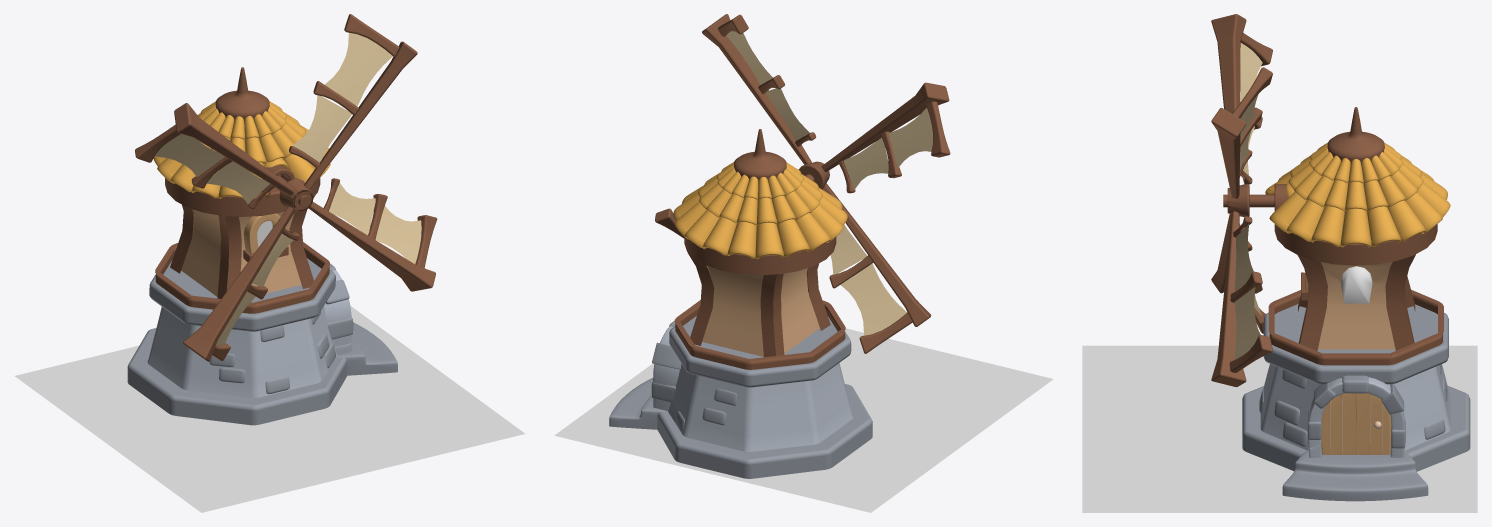
File: Windmill3.fbx
The picture shows the model from 3 angles, left to right: view 1: azimuth 30°, elevation 25°; view 2: azimuth 150°, elevation 25°; view 3: azimuth 270°, elevation 25°; orthographic projection. The views are drawn at different scales.
Parts seen in each view (by area): view 1: Plane, Plane.003, Circle, Circle.013, Circle.006, Plane.001, Plane.007, Circle.066, Circle.001, Plane.006, Circle.002, Circle.007 (+1 smaller); view 2: Plane, Plane.003, Circle, Circle.013, Plane.001, Circle.006, Plane.007, Circle.066, Circle.001, Plane.006, Circle.002, Circle.025 (+7 smaller); view 3: Plane, Plane.003, Plane.006, Circle.006, Circle, Circle.013, Plane.001, Circle.009, Plane.007, Circle.066, Circle.001, Circle.002 (+17 smaller).
Part boxes in pixels (bbox=[...]): Plane: bbox=[15, 306, 525, 512]; Plane.003: bbox=[135, 14, 437, 361]; Circle: bbox=[147, 305, 337, 397]; Circle.013: bbox=[127, 328, 347, 425]; Circle.006: bbox=[149, 258, 335, 331]; Plane.001: bbox=[181, 210, 301, 296]; Plane.007: bbox=[170, 195, 315, 298]; Circle.066: bbox=[155, 242, 329, 313]; Circle.001: bbox=[165, 139, 320, 216]; Plane.006: bbox=[337, 322, 397, 375]; Circle.002: bbox=[215, 67, 269, 121]; Circle.007: bbox=[324, 270, 351, 355]; Plane: bbox=[554, 328, 1053, 512]; Plane.003: bbox=[655, 14, 950, 353]; Circle: bbox=[668, 363, 853, 451]; Circle.013: bbox=[657, 384, 872, 478]; Plane.001: bbox=[702, 266, 819, 356]; Circle.006: bbox=[669, 316, 851, 387]; Plane.007: bbox=[687, 252, 830, 357]; Circle.066: bbox=[674, 300, 845, 369]; Circle.001: bbox=[684, 198, 836, 275]; Plane.006: bbox=[609, 378, 667, 429]; Circle.002: bbox=[733, 129, 786, 182]; Circle.025: bbox=[755, 222, 783, 258]; Plane: bbox=[1082, 345, 1477, 512]; Plane.003: bbox=[1211, 14, 1272, 387]; Plane.006: bbox=[1282, 450, 1428, 501]; Circle.006: bbox=[1263, 304, 1448, 384]; Circle: bbox=[1260, 364, 1451, 450]; Circle.013: bbox=[1242, 386, 1470, 471]; Plane.001: bbox=[1318, 261, 1395, 349]; Circle.009: bbox=[1321, 393, 1391, 454]; Plane.007: bbox=[1297, 254, 1415, 350]; Circle.066: bbox=[1268, 289, 1443, 365]; Circle.001: bbox=[1274, 183, 1437, 265]; Circle.002: bbox=[1327, 107, 1384, 164].
Bounding box in the file's own units: 800 × 892 × 800.
